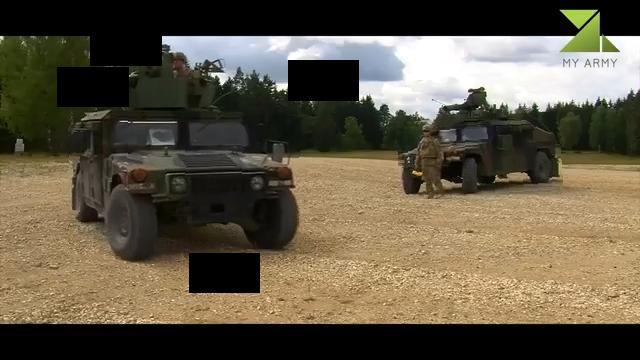MIL_HMMWV: (69, 107, 300, 261), (397, 114, 562, 197), (411, 120, 445, 199)
